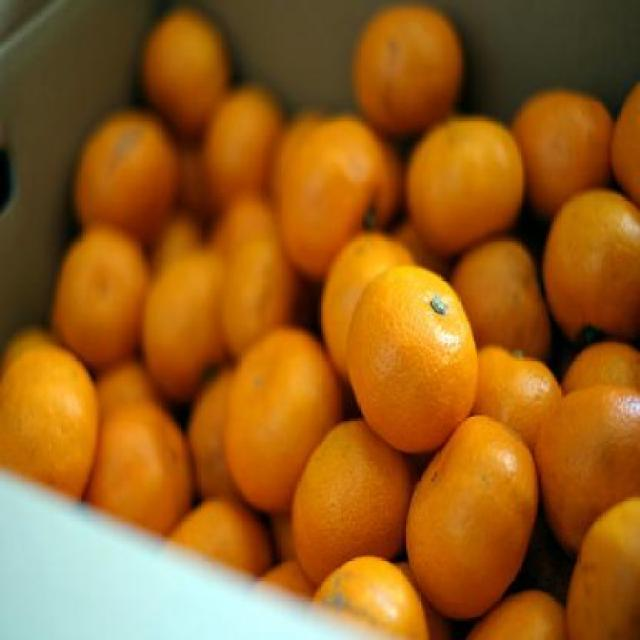Orange: (402, 414, 538, 614), (347, 270, 476, 453), (224, 326, 338, 517), (291, 422, 420, 582), (407, 118, 527, 267), (543, 389, 640, 566), (286, 119, 392, 270), (81, 399, 184, 541), (72, 108, 171, 241), (358, 0, 462, 126), (7, 347, 95, 495), (53, 222, 150, 356), (548, 194, 636, 340), (320, 226, 406, 369), (522, 90, 612, 216), (146, 7, 228, 128), (320, 554, 434, 640), (570, 499, 638, 636), (462, 243, 542, 351), (166, 499, 271, 581), (147, 263, 215, 389), (220, 240, 292, 358), (204, 74, 273, 182), (480, 354, 558, 448), (189, 371, 231, 498), (174, 144, 220, 226), (484, 596, 564, 638), (214, 188, 268, 248), (566, 336, 634, 382), (612, 90, 640, 192), (99, 366, 144, 414), (264, 554, 312, 594)
